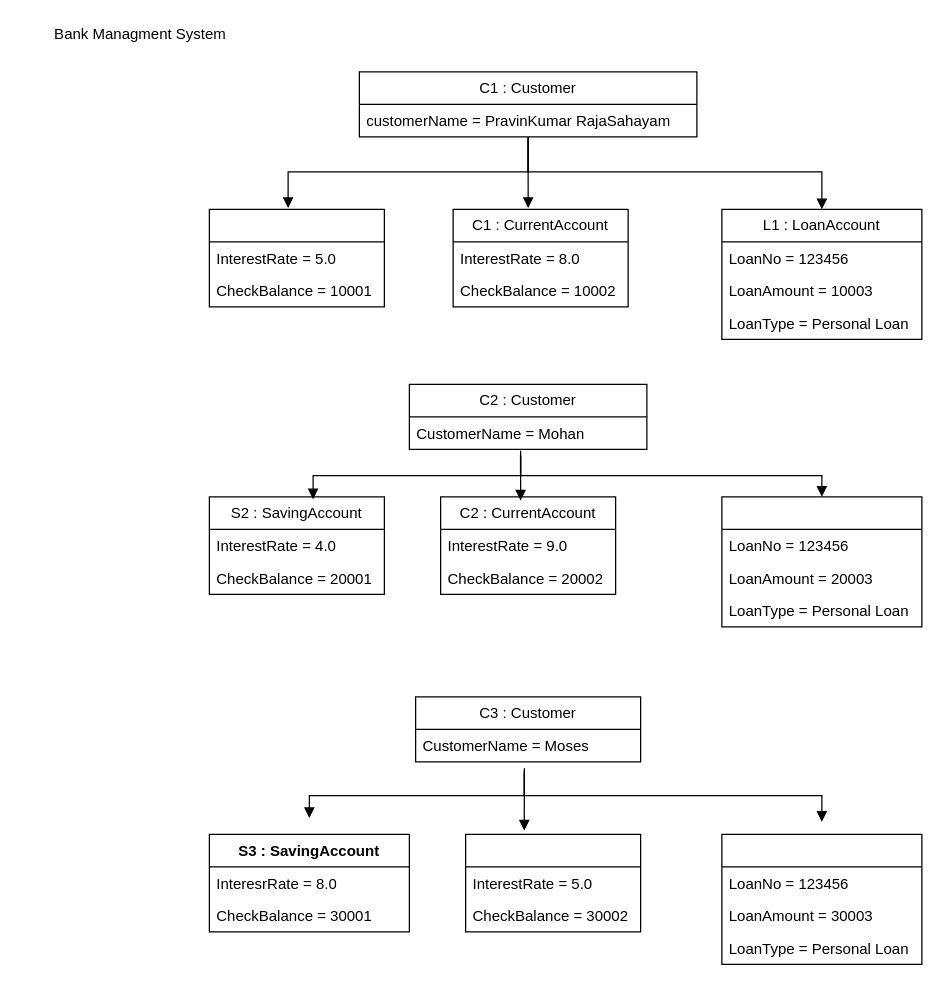
The diagram is 944 pixels wide and 989 high, and some of its shapes have lost their labels. The shapes that lost their labels are listed below. From the top down, each one's box as (x1, y1, x2, y2) in pixels, then its label:
(208, 208, 384, 307): S1 : SavingAccount
(721, 496, 922, 627): L2 : LoanAccount
(464, 833, 641, 932): C3 : CurrentAccount
(721, 833, 922, 964): L3 : LoanAccount
